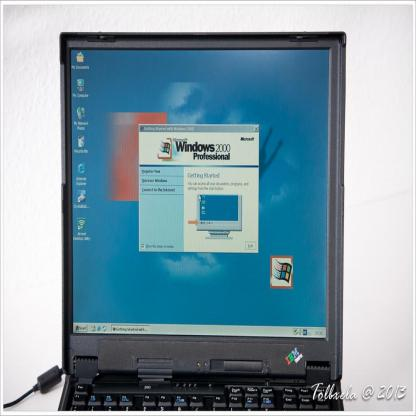board: (60, 29, 346, 415)
